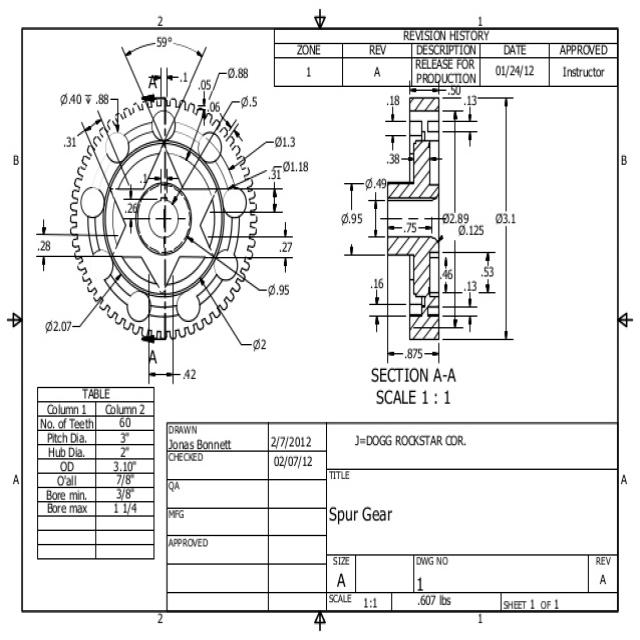Sectional view: (331, 86, 522, 408)
Table 1: (272, 24, 620, 87)
Table 2: (163, 418, 622, 616)
Table 3: (34, 386, 158, 563)
Top view: (33, 34, 309, 385)
